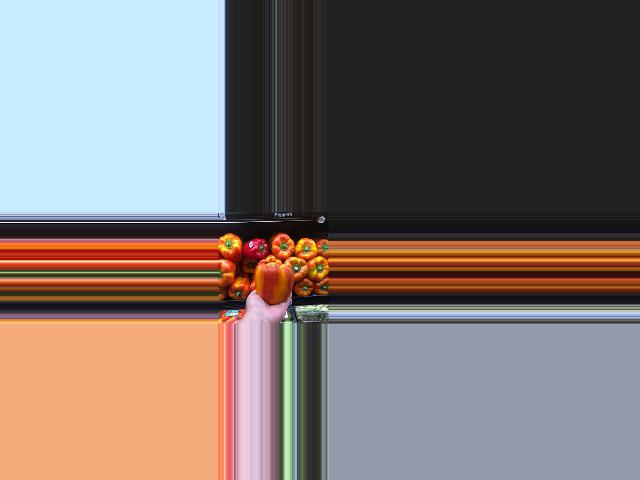bell_pepper: (226, 276, 252, 297)
